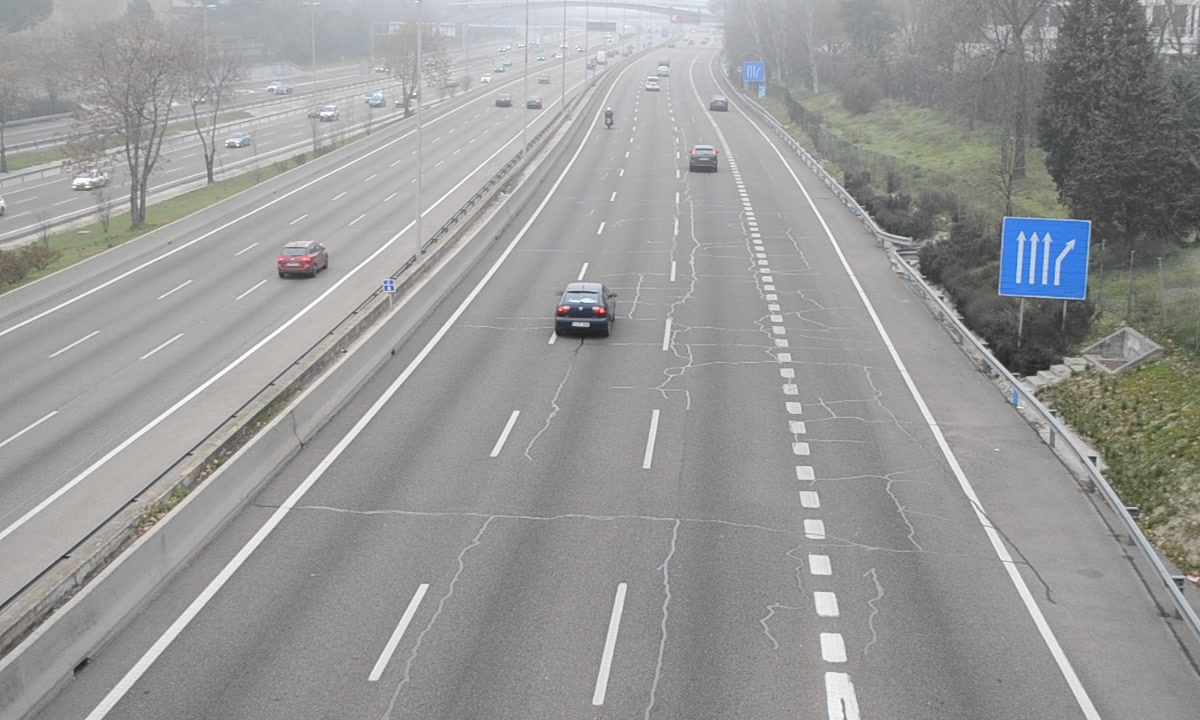car: (552, 282, 615, 340), (688, 145, 719, 174)
motorcycle: (604, 106, 614, 131)
